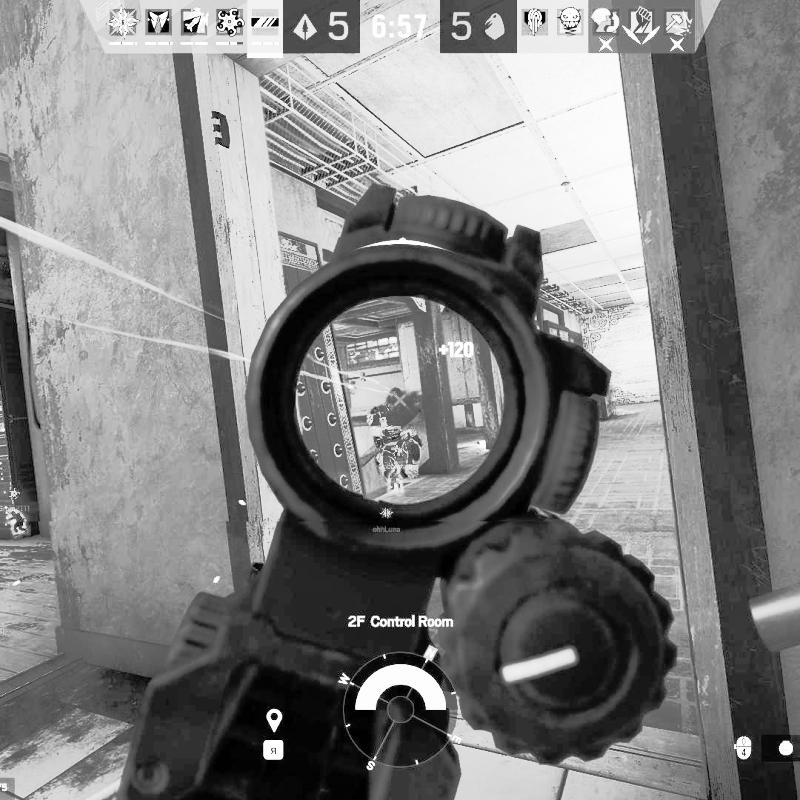Character: (366, 384, 424, 493)
Friend_label: (370, 504, 404, 534), (379, 445, 414, 471), (0, 485, 32, 512)
Head: (386, 386, 403, 407)
